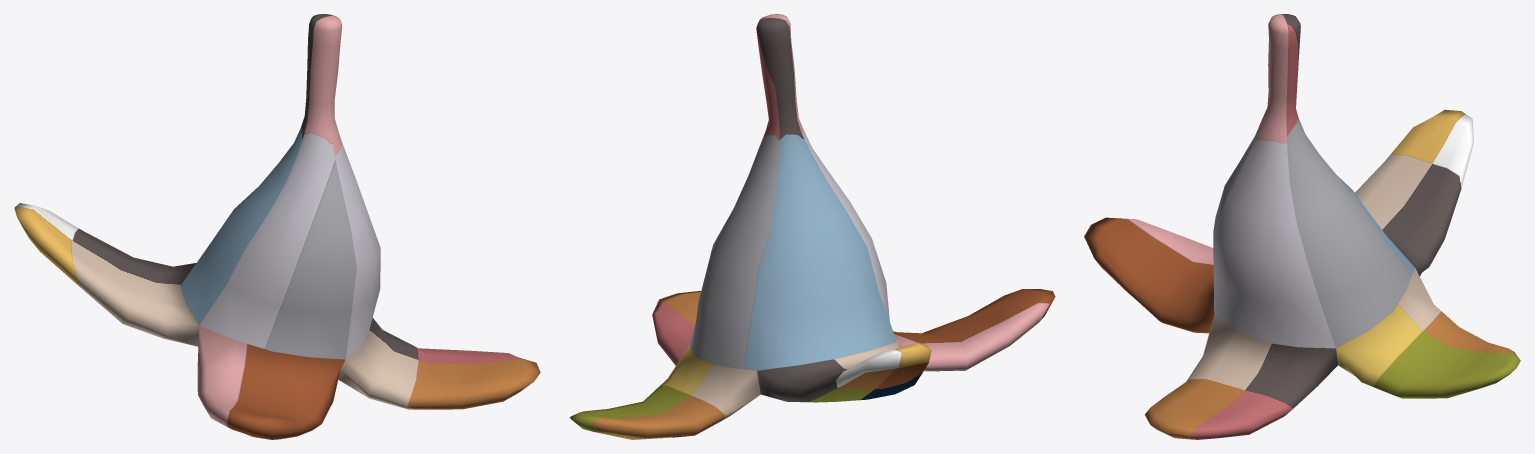
File: Hat_Banana.fbx
3 views of the same model, side by side, from view 1: azimuth 30°, elevation 25°; view 2: azimuth 150°, elevation 25°; view 3: azimuth 270°, elevation 25° (orthographic). The views are drawn at different scales.
Parts seen in each view (by area): view 1: Hat_Banana; view 2: Hat_Banana; view 3: Hat_Banana.
Boxes of the visible parts, box(x1,y1,x2,y2) form: Hat_Banana: box(14, 14, 540, 439); Hat_Banana: box(569, 14, 1055, 439); Hat_Banana: box(1084, 14, 1520, 439).
Size of the model in its own units: 110 by 102 by 110.
